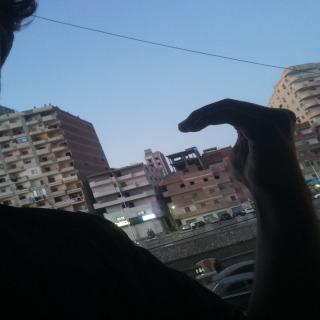HAA: (176, 95, 311, 186)
